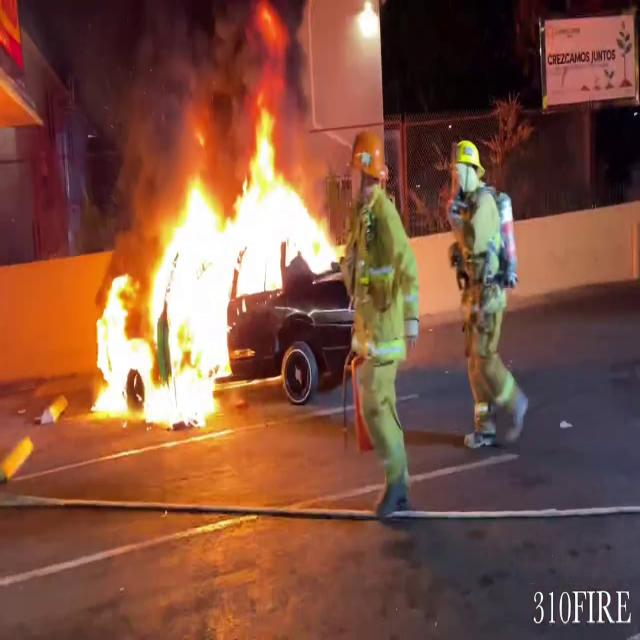Fire: (82, 87, 347, 429)
